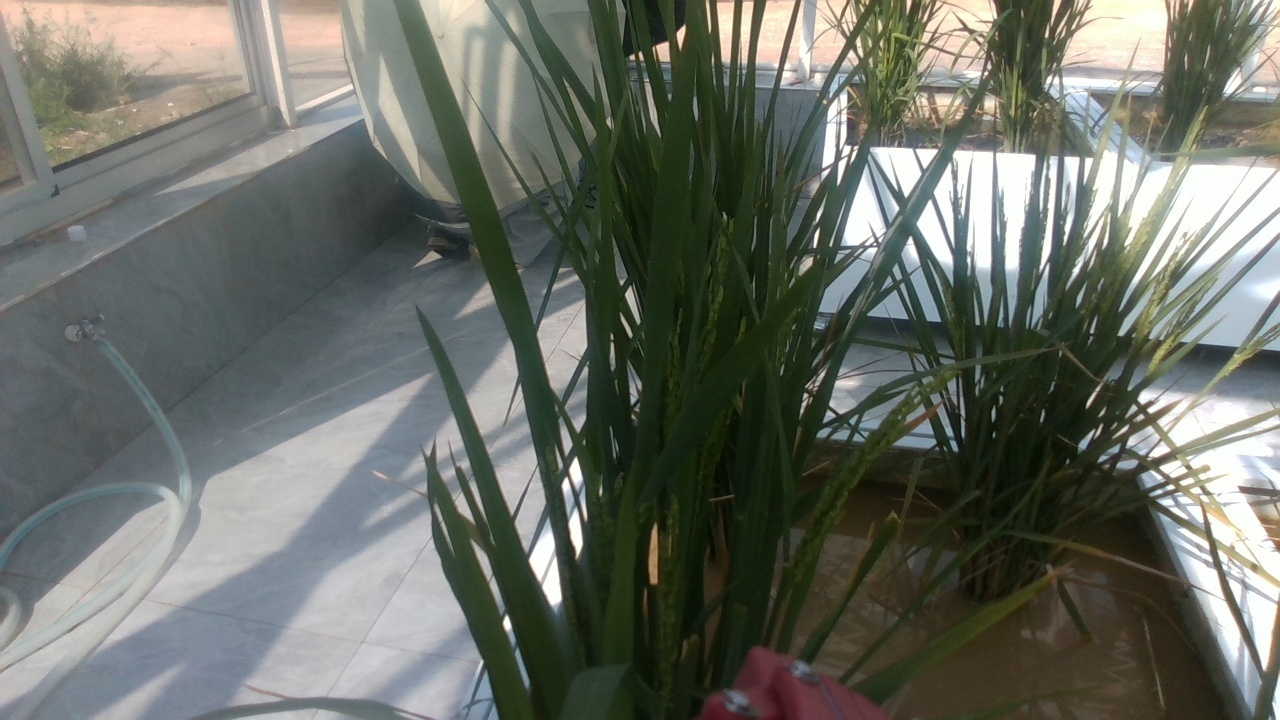panicle: (804, 371, 951, 551)
